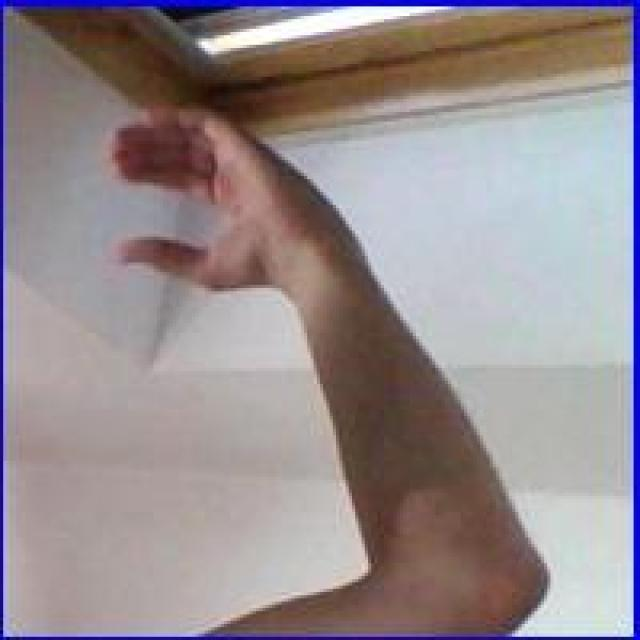C: (104, 93, 280, 304)
